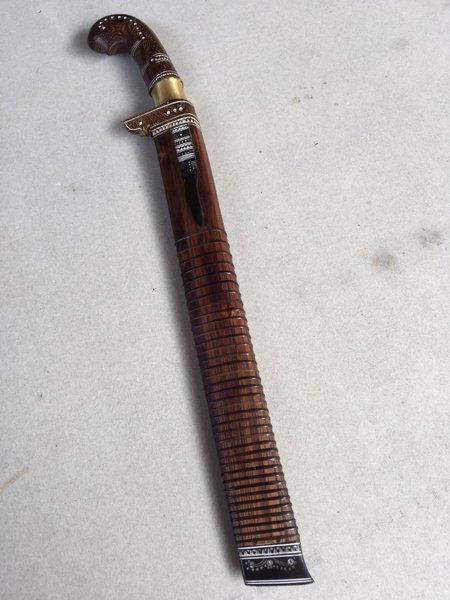facao: (82, 8, 314, 586)
